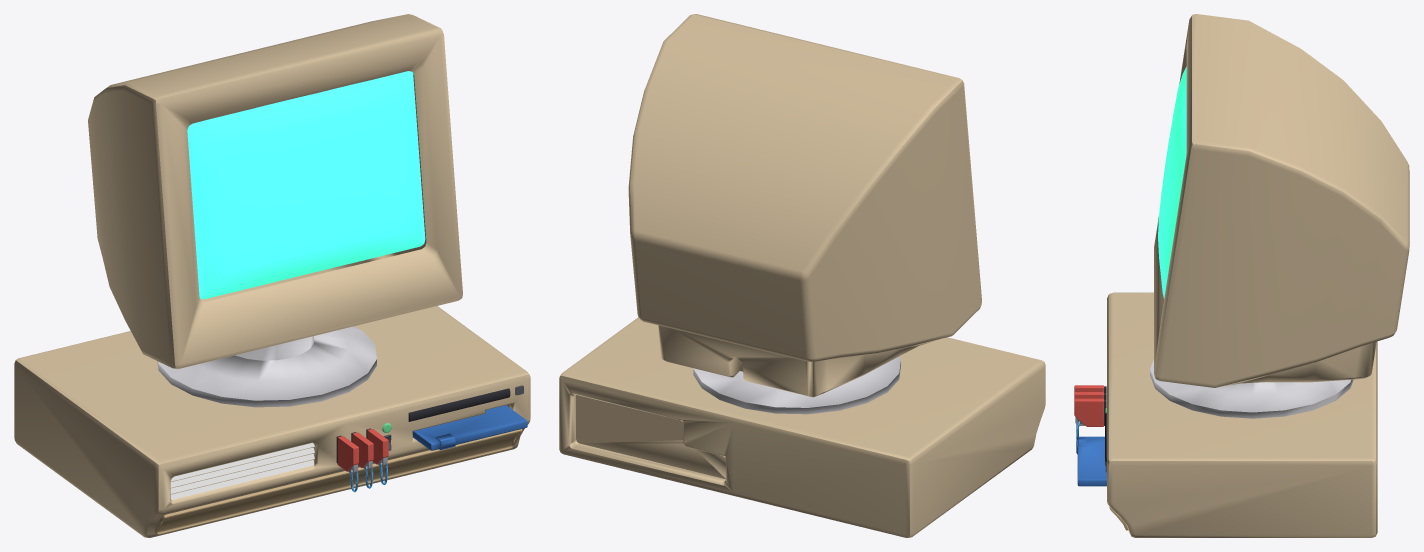
The model's file is computer-model.glb.
The picture shows the model from 3 angles, left to right: view 1: azimuth 30°, elevation 25°; view 2: azimuth 150°, elevation 25°; view 3: azimuth 270°, elevation 25°; orthographic projection. The views are drawn at different scales.
Parts seen in each view (by area): view 1: computer_body, computer_screen, rack_3, rack_4, rack_2, rack_1; view 2: computer_body; view 3: computer_body, computer_screen.
Boxes of the visible parts, bbox=[...] form: computer_body: bbox=[14, 14, 530, 537]; computer_screen: bbox=[187, 71, 425, 299]; rack_3: bbox=[170, 453, 314, 493]; rack_4: bbox=[170, 447, 314, 487]; rack_2: bbox=[170, 460, 313, 499]; rack_1: bbox=[170, 443, 314, 481]; computer_body: bbox=[559, 14, 1045, 537]; computer_body: bbox=[1074, 14, 1409, 537]; computer_screen: bbox=[1158, 66, 1186, 298].
Bounding box in the file's own units: 0.4501 × 0.4665 × 0.3746.
Materials: 2 (1 with a texture image).
